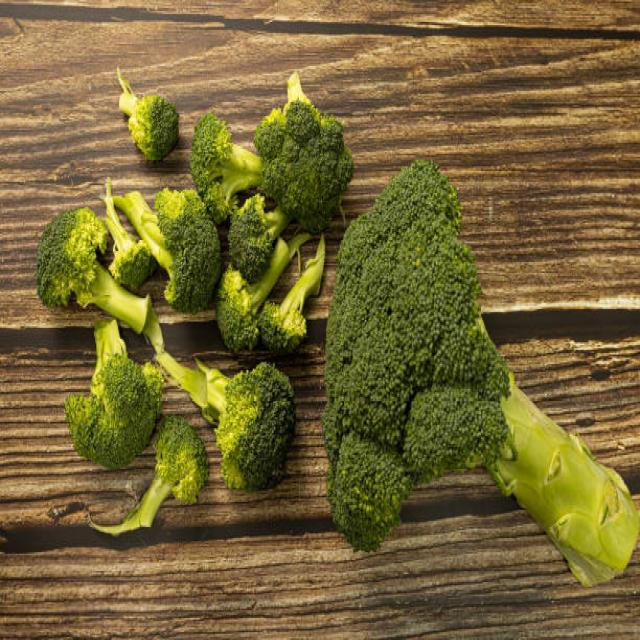broccoli: (338, 180, 629, 632), (190, 356, 326, 495), (62, 320, 157, 483), (24, 195, 133, 329), (267, 58, 368, 194), (112, 49, 192, 158), (197, 102, 265, 202), (154, 433, 203, 507)
